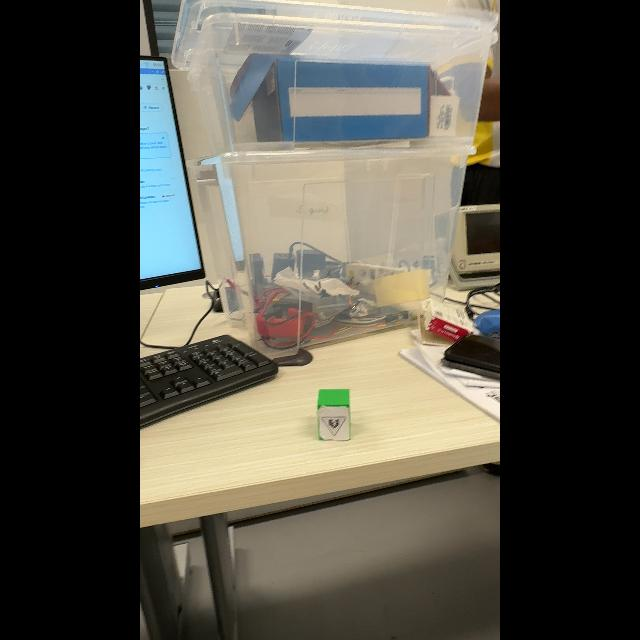Earthquake: (321, 415, 347, 435)
